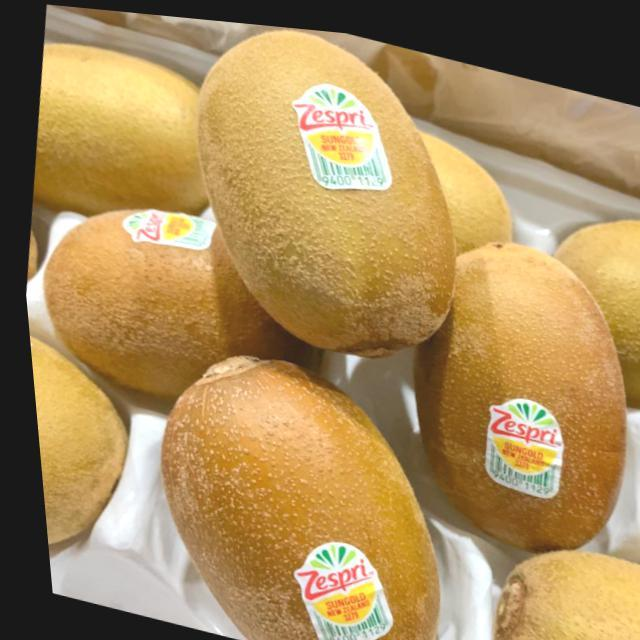kiwi: (153, 13, 512, 382), (121, 331, 475, 640), (417, 218, 640, 558), (14, 178, 279, 417), (460, 529, 640, 640)
